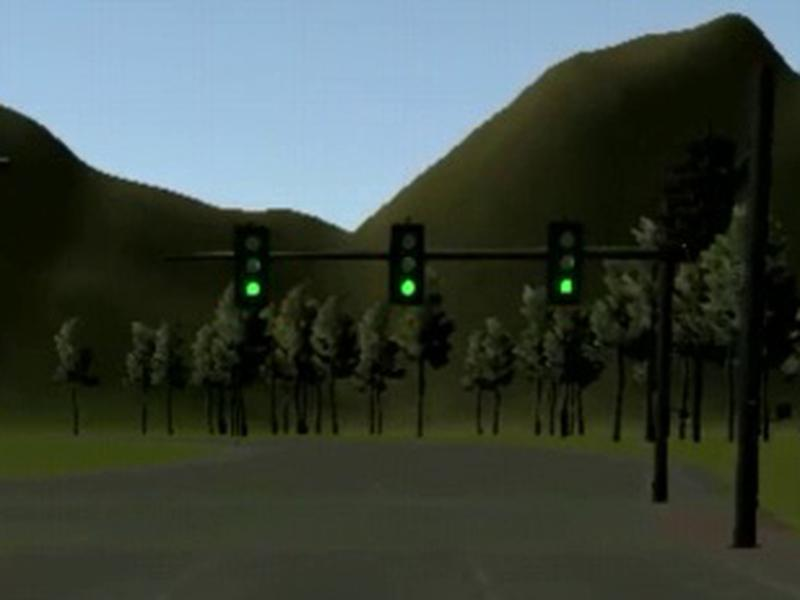Green: (546, 221, 584, 306), (390, 224, 424, 304), (235, 227, 269, 306)
